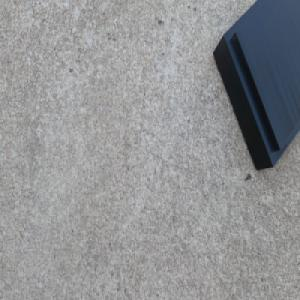PlasticPart: (210, 0, 300, 174)
